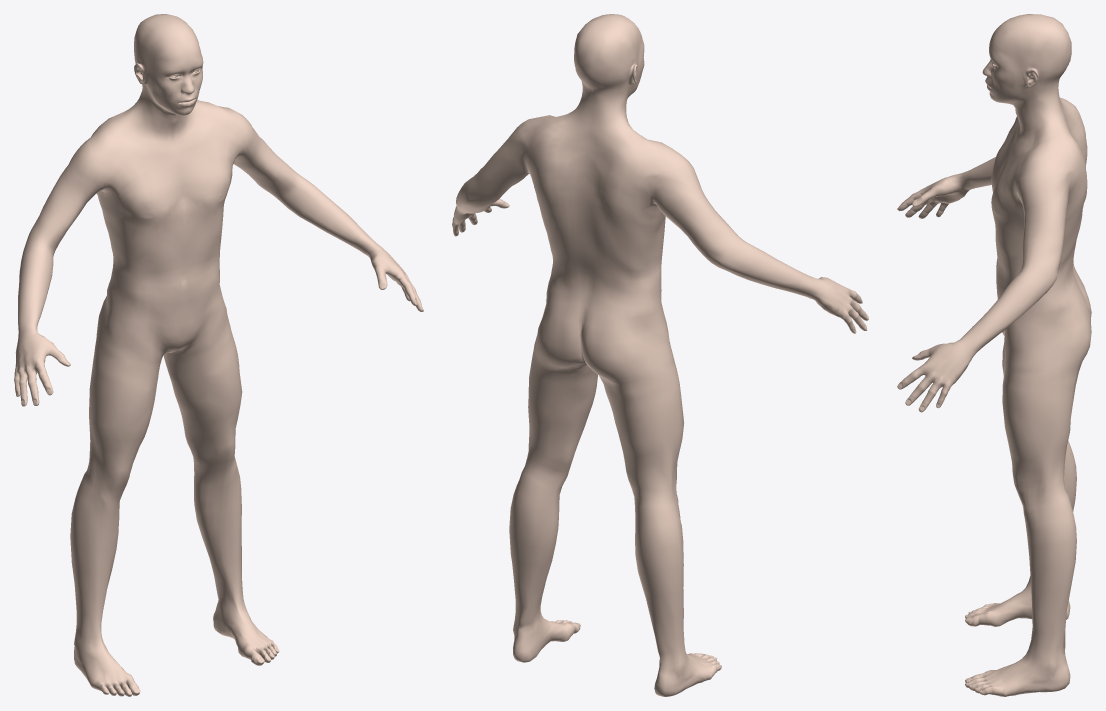
File: male.glb
3 views of the same model, side by side, from view 1: azimuth 30°, elevation 25°; view 2: azimuth 150°, elevation 25°; view 3: azimuth 270°, elevation 25° (orthographic).
Parts seen in each view (by area): view 1: body; view 2: body; view 3: body.
Part boxes in pixels (<box>): body: <box>14,14,423,696</box>; body: <box>452,14,868,696</box>; body: <box>897,14,1091,696</box>.
Size of the model in its own units: 1.43 by 2.19 by 0.604.
